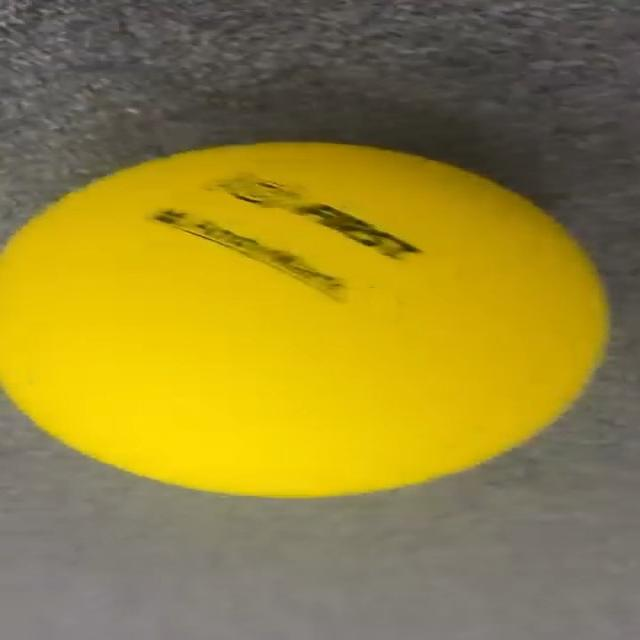Fuels: (0, 142, 606, 496)
